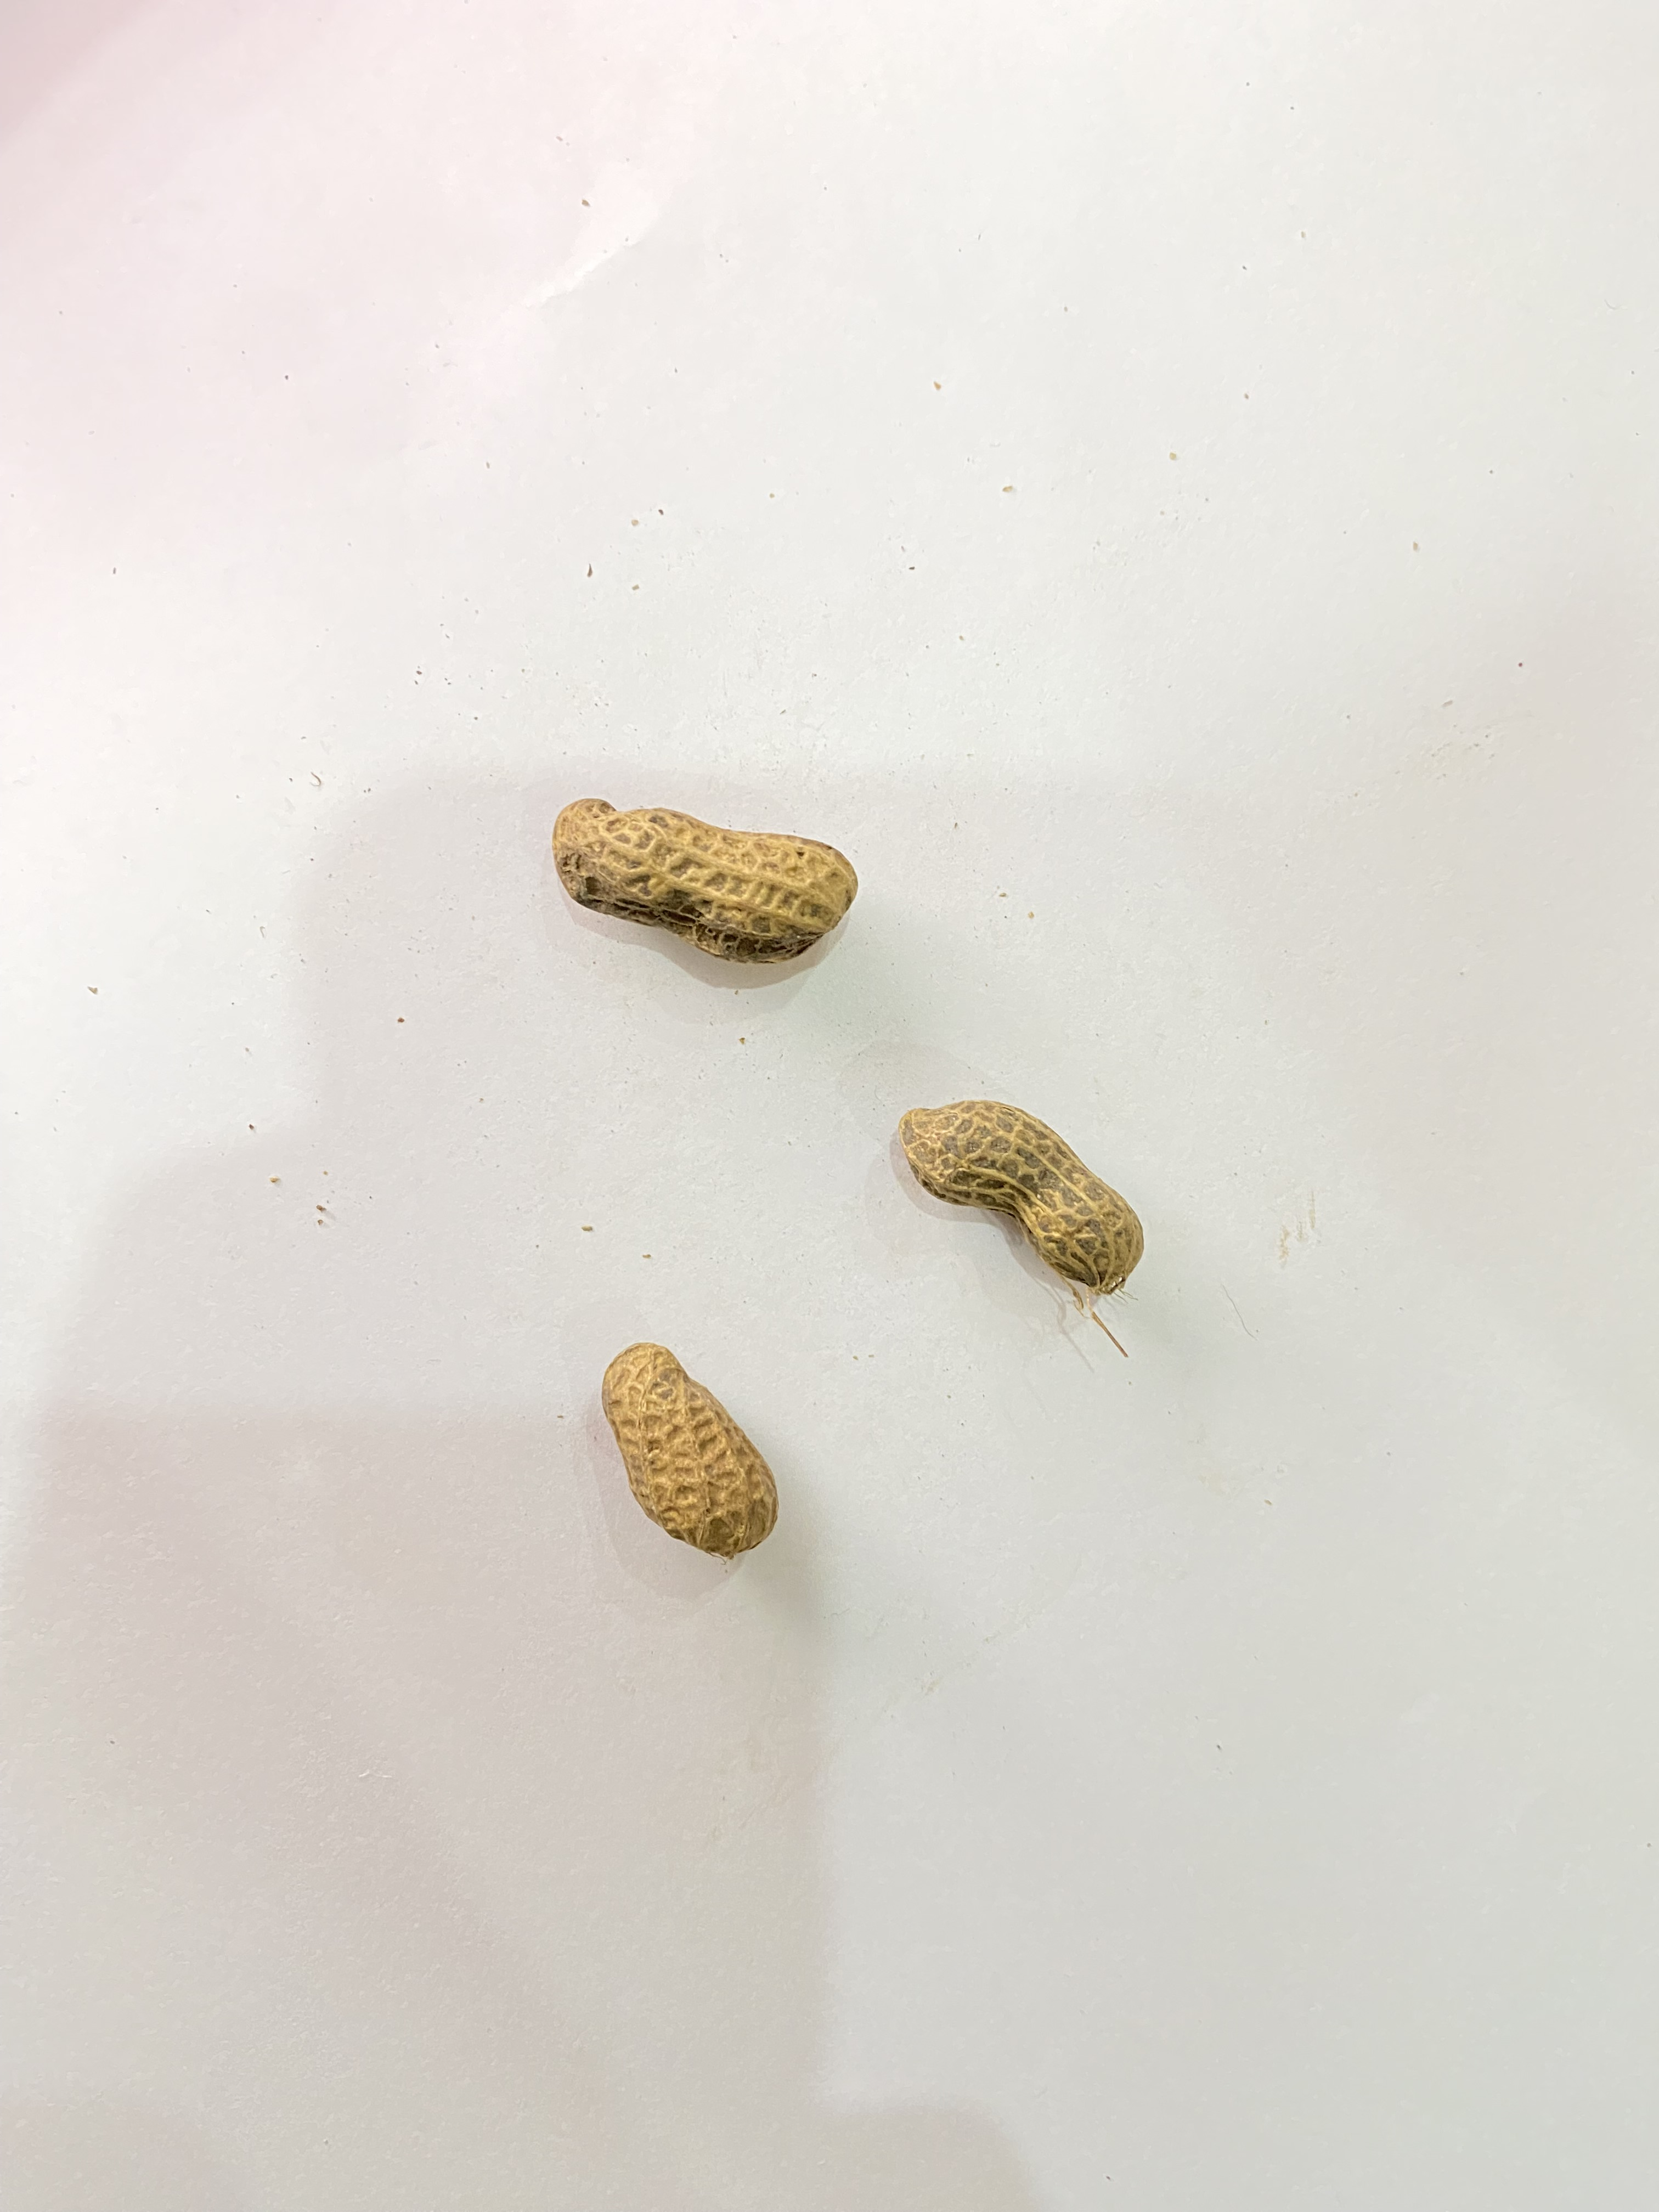kacang1: (563, 1294, 831, 1613)
kacang2: (498, 732, 906, 975), (906, 1071, 1150, 1298)
